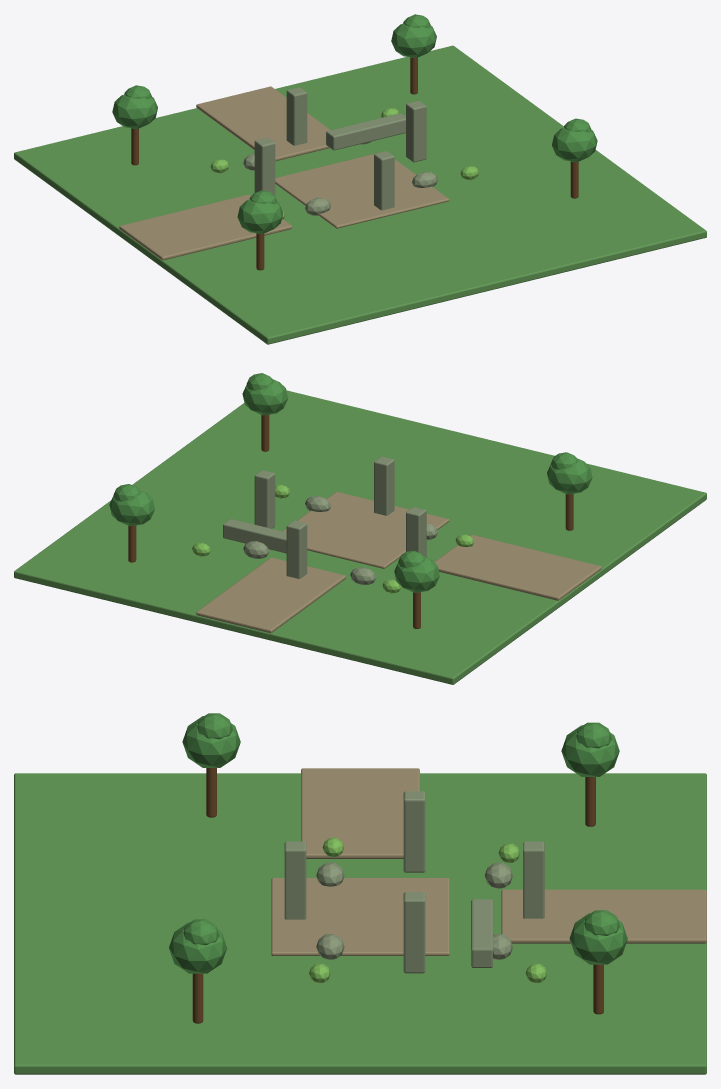
Rendered from chunk_ruins.fbx.
3 renders of one model, top to bottom at view 1: azimuth 30°, elevation 25°; view 2: azimuth 150°, elevation 25°; view 3: azimuth 270°, elevation 25°, orthographic. The views are drawn at different scales.
Parts seen in each view (by area): view 1: chunk_ruins; view 2: chunk_ruins; view 3: chunk_ruins.
Boxes of the visible parts, <box> form: chunk_ruins: <box>14,14,706,344</box>; chunk_ruins: <box>14,373,706,684</box>; chunk_ruins: <box>14,713,706,1074</box>.
Size of the model in its own units: 256 by 46.2 by 256.
